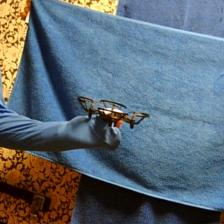drone: (79, 96, 151, 131)
